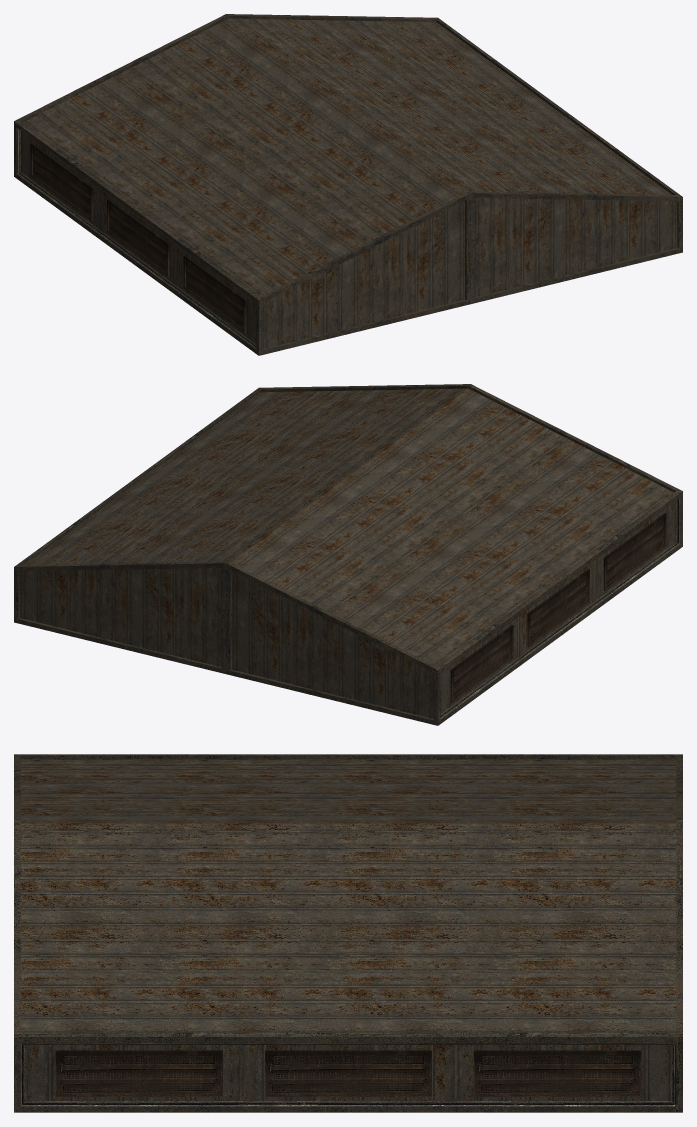
The model's file is roof_mh_4_b_2.glb.
3 renders of one model, top to bottom at view 1: azimuth 30°, elevation 25°; view 2: azimuth 150°, elevation 25°; view 3: azimuth 270°, elevation 25°, orthographic. The views are drawn at different scales.
Visible parts, largest first — view 1: roof_mh_4_b_2; view 2: roof_mh_4_b_2; view 3: roof_mh_4_b_2.
Boxes of the visible parts, x1=… form: roof_mh_4_b_2: x1=14, y1=14, x2=682, y2=355; roof_mh_4_b_2: x1=14, y1=384, x2=682, y2=725; roof_mh_4_b_2: x1=14, y1=754, x2=682, y2=1112.
Size of the model in its own units: 8 by 2 by 8.
Materials: 6 (6 with a texture image).
